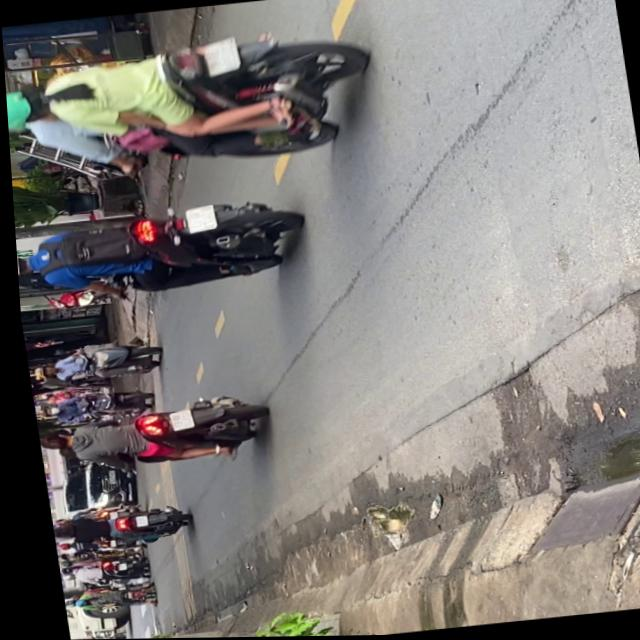helmet: (4, 84, 51, 131), (13, 248, 28, 277), (26, 364, 50, 378), (5, 103, 14, 138)
licenseplate: (1, 21, 378, 188), (10, 193, 304, 307), (28, 392, 266, 478), (22, 336, 159, 387)
motorcyclist: (32, 430, 64, 451)
nohelmet: (199, 38, 238, 76), (180, 205, 214, 235), (161, 409, 188, 431)
